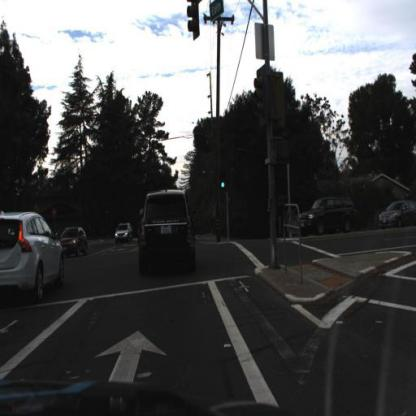car: (1, 210, 65, 303), (138, 188, 196, 276), (300, 195, 358, 237), (376, 199, 416, 231), (56, 227, 88, 258), (113, 222, 135, 248)
trafficLight-Green: (219, 169, 228, 194)
